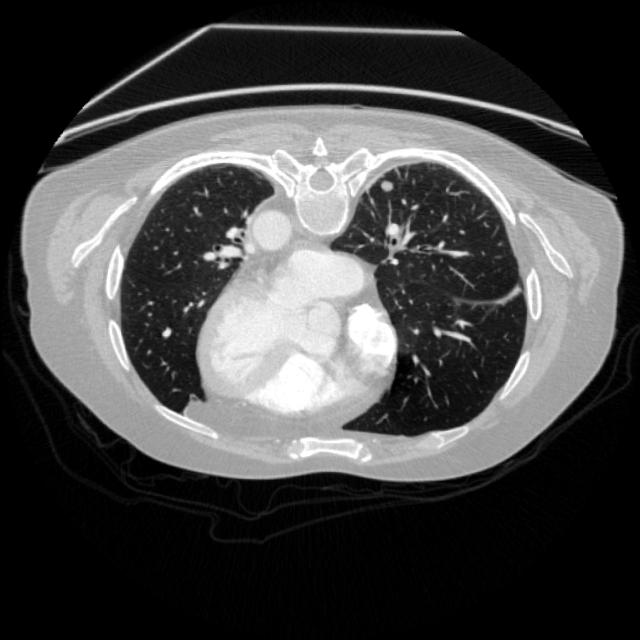nodule: (372, 172, 402, 201)
